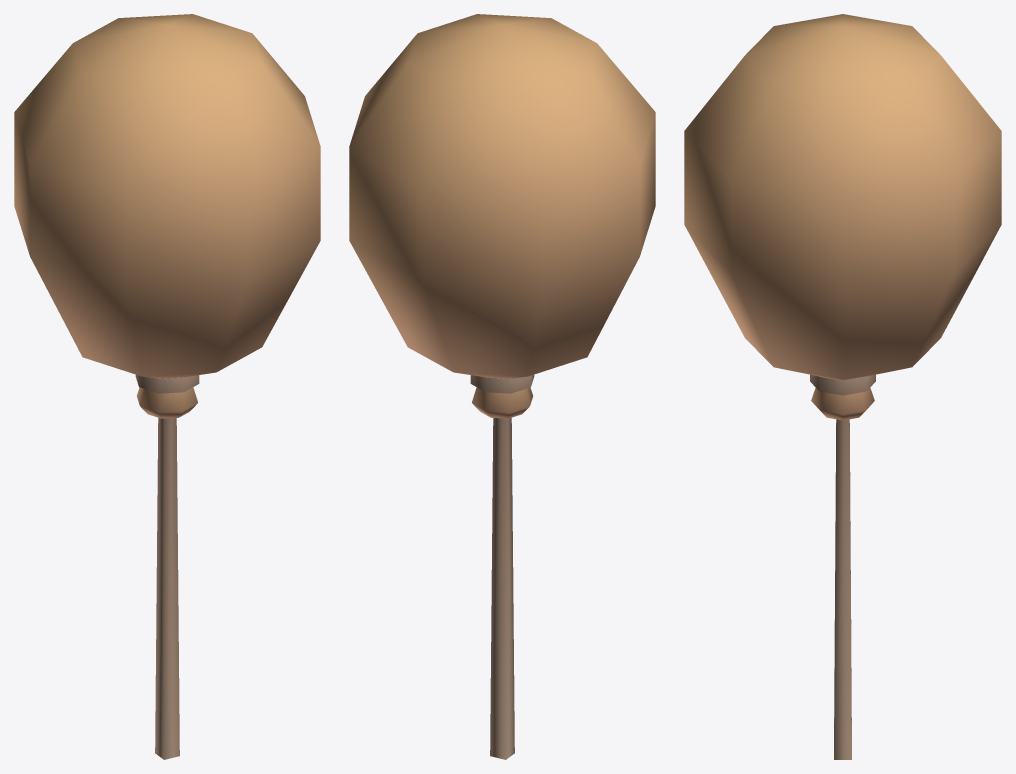
File: balloon-string.glb
3 renders of one model, left to right at view 1: azimuth 30°, elevation 25°; view 2: azimuth 150°, elevation 25°; view 3: azimuth 270°, elevation 25°, orthographic.
Parts seen in each view (by area): view 1: balloon-string; view 2: balloon-string; view 3: balloon-string.
Boxes of the visible parts, x1=… form: balloon-string: x1=14, y1=14, x2=320, y2=759; balloon-string: x1=349, y1=14, x2=655, y2=759; balloon-string: x1=684, y1=14, x2=1001, y2=759.
Size of the model in its own units: 0.4375 by 1.11 by 0.4375.
